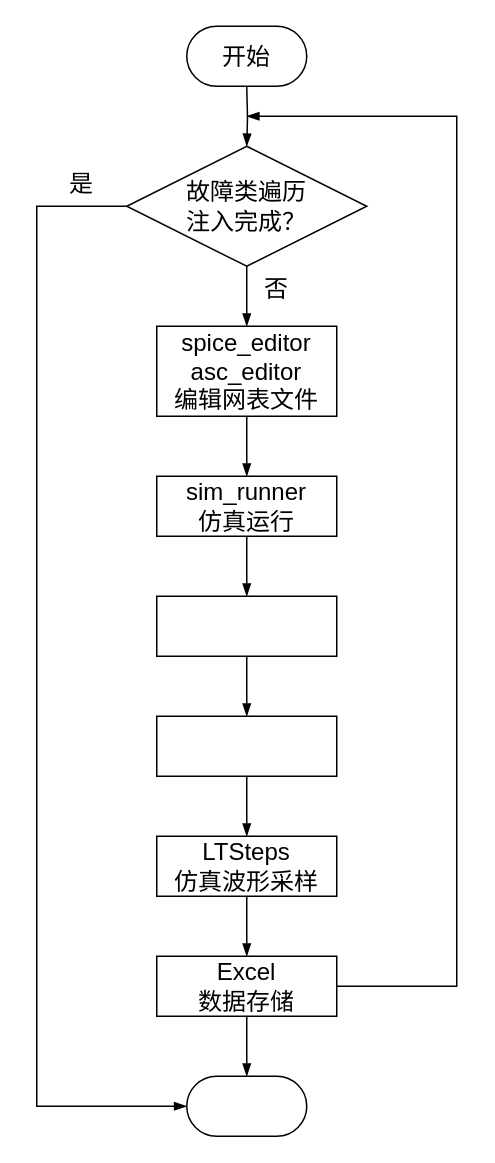
Some shapes in this 495 by 1163 pixel diagram are drawn without their labels. The centre of each missing label's shape, as x and y in pixels:
"raw_read 仿真波形读取" goes at pixel 246 745.
"raw_write 波形直接写入" goes at pixel 246 625.
"结束" goes at pixel 246 1105.
